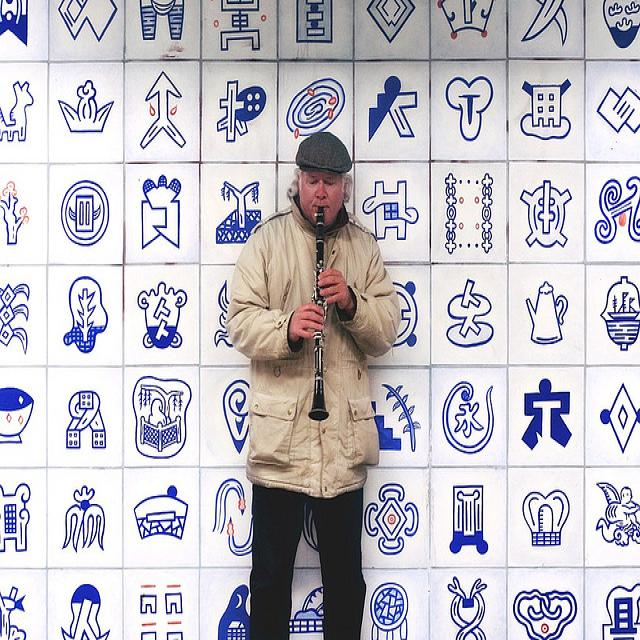clarinet: (305, 203, 329, 422)
